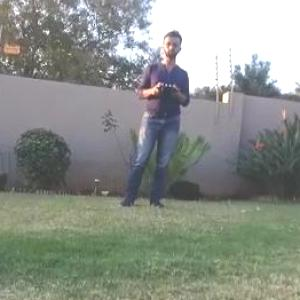follow: (115, 20, 193, 209)
